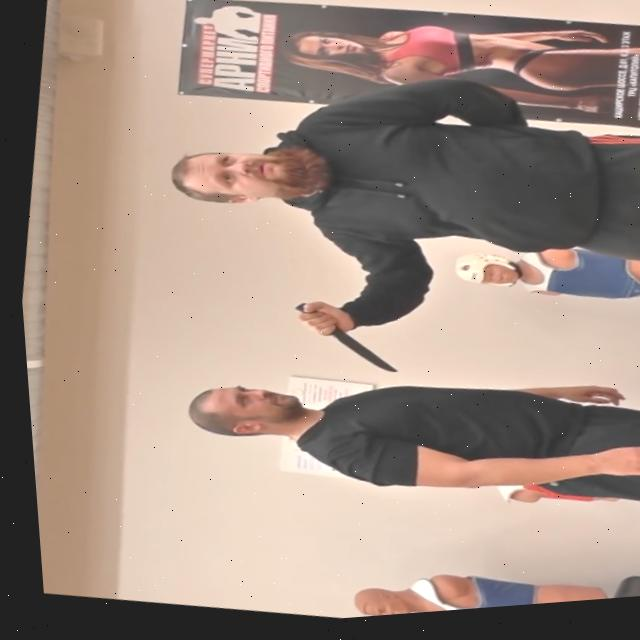knife: (322, 331, 397, 383)
